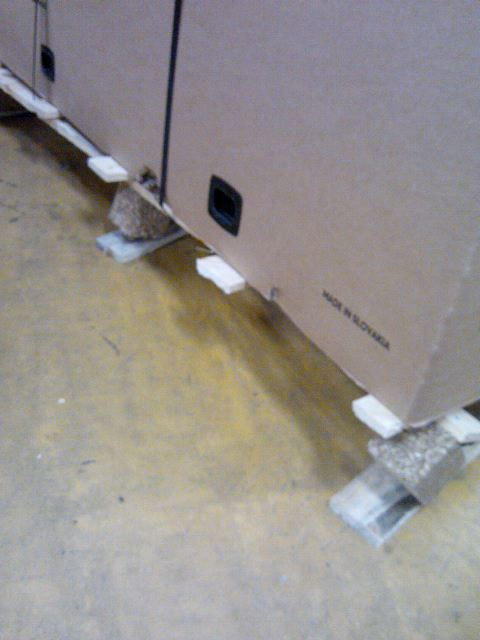package: (0, 0, 480, 420)
